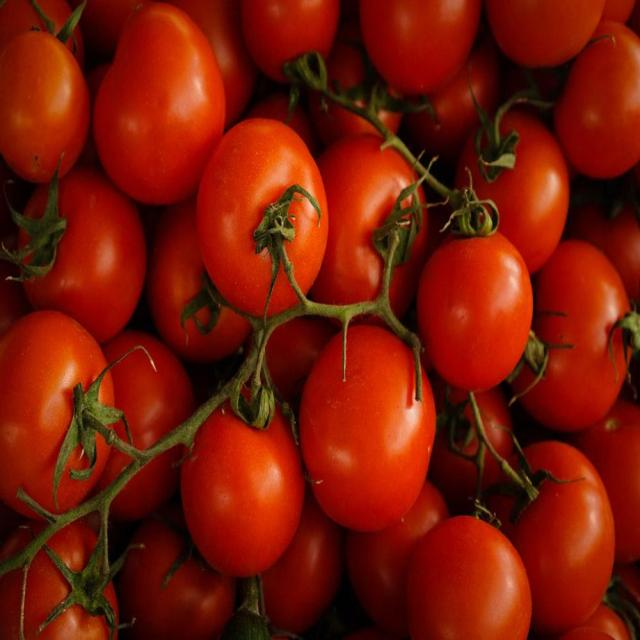Tomato: (202, 119, 341, 319), (299, 311, 435, 514), (92, 7, 230, 196), (4, 321, 122, 520), (180, 407, 310, 576), (501, 442, 622, 619), (530, 246, 638, 427), (420, 222, 531, 390), (465, 105, 577, 258), (24, 189, 150, 324), (412, 511, 528, 640), (0, 36, 95, 168)
